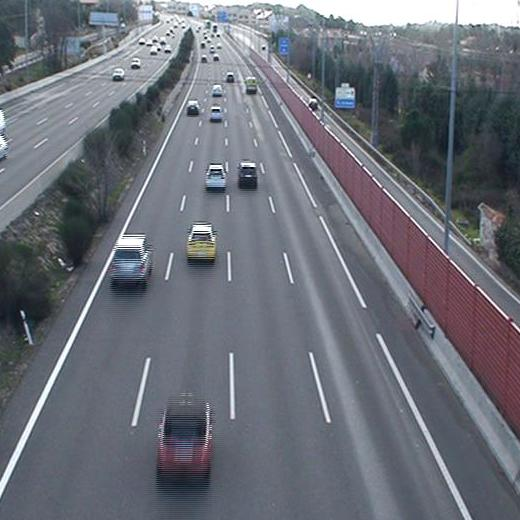car: (156, 402, 212, 473), (112, 237, 152, 282), (185, 224, 217, 261), (205, 164, 225, 189), (237, 162, 257, 186), (210, 106, 224, 120), (187, 100, 200, 115), (210, 84, 224, 97), (226, 73, 234, 82)
small-truck: (245, 77, 256, 93)
